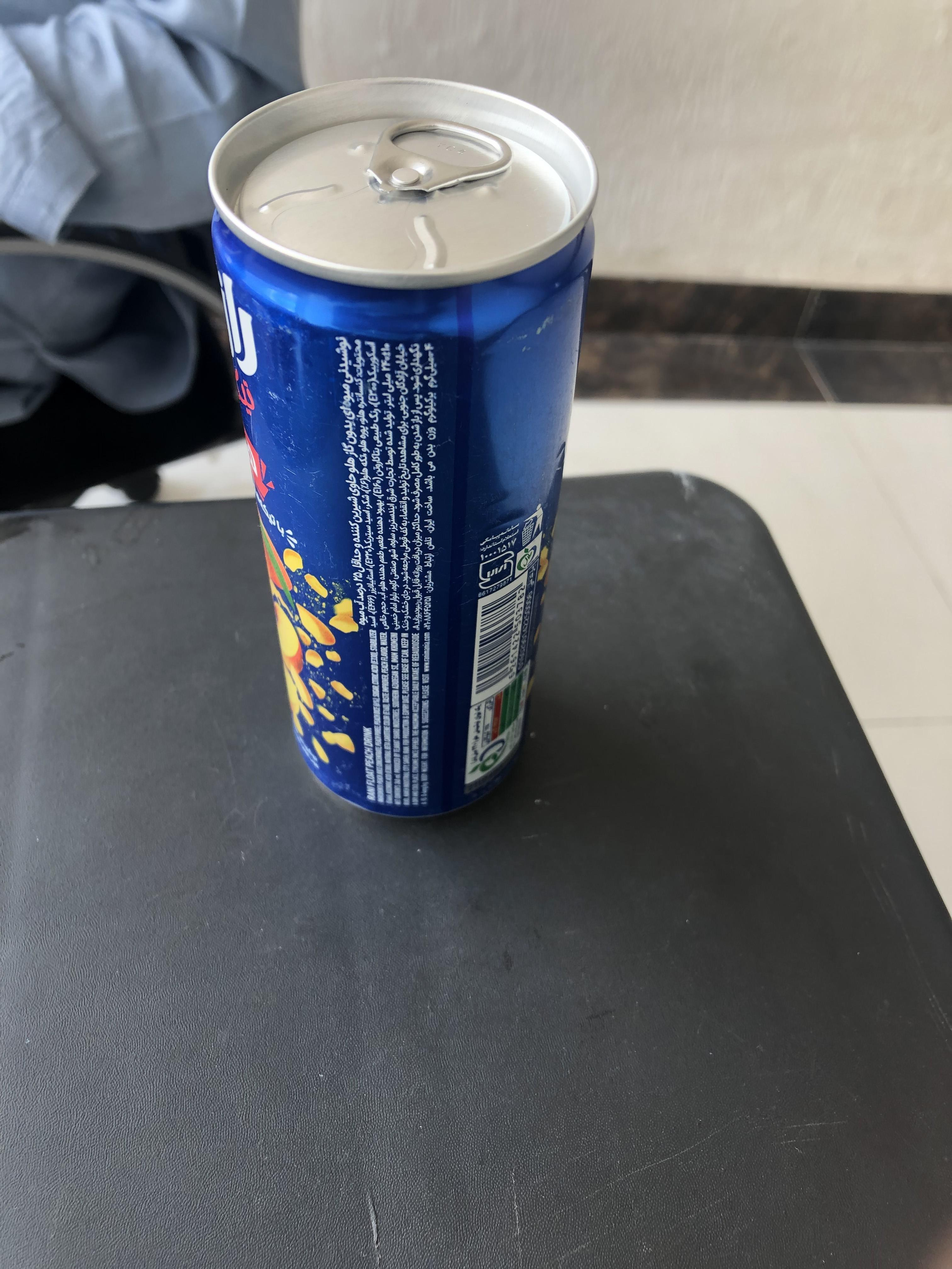tin can: (205, 71, 605, 824)
